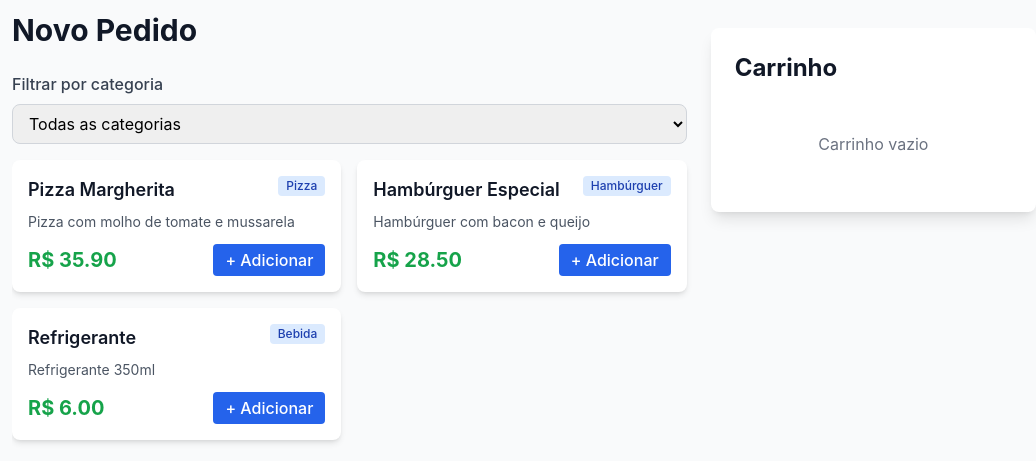
Test: CriarPedidoPage › should add item to cart
Check: the heading "Pizza Margherita" is shown, box [28,176,175,204]
Click the button "+ Adicionar" next to "35.90". click: (269, 260)
box: [213,244,325,276]
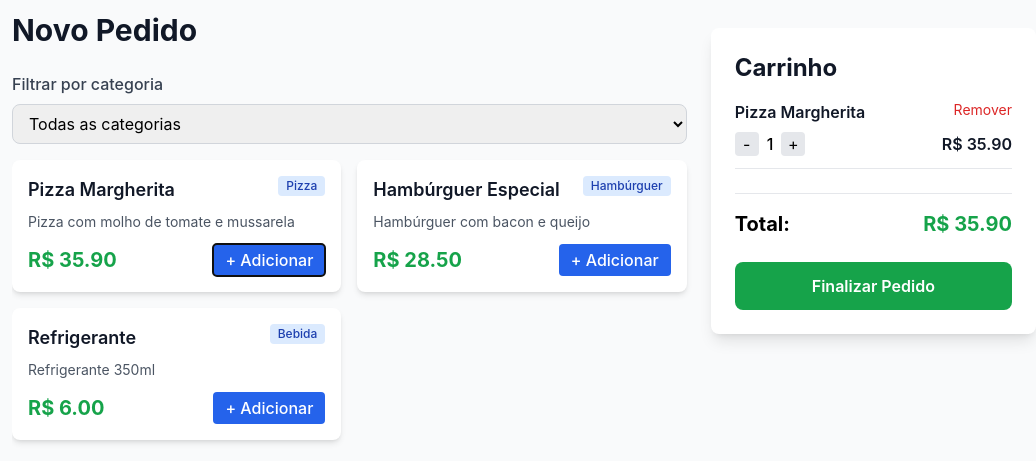
Check: the text "Carrinho vazio" is gone
Check: the button "Remover" is shown, box [954,100,1012,120]
Check: the button "Finalizar Pedido" is shown, box [735,262,1012,310]
